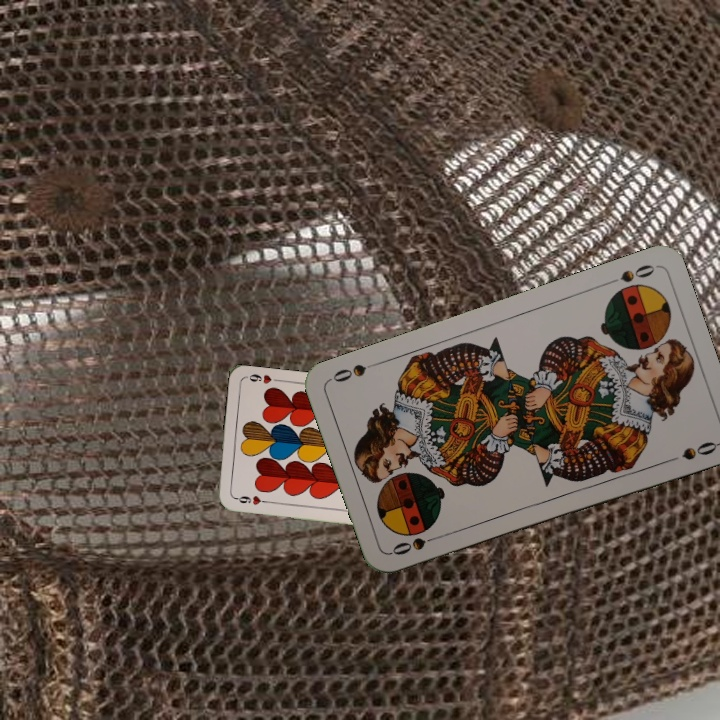H9: (231, 491, 271, 507)
SO: (601, 260, 658, 289), (388, 531, 446, 558)
